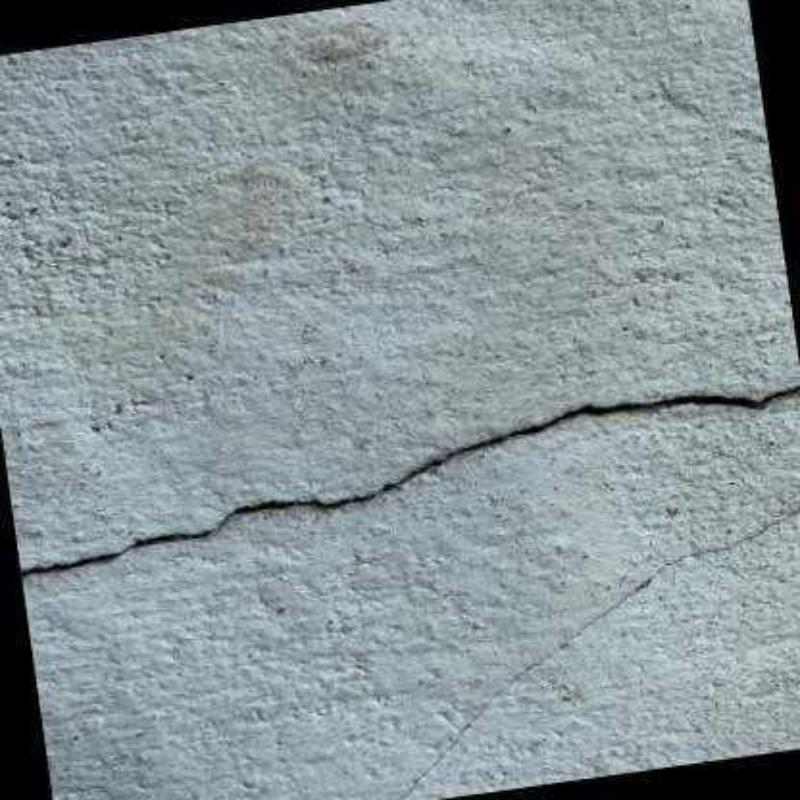crack: (20, 383, 800, 574)
